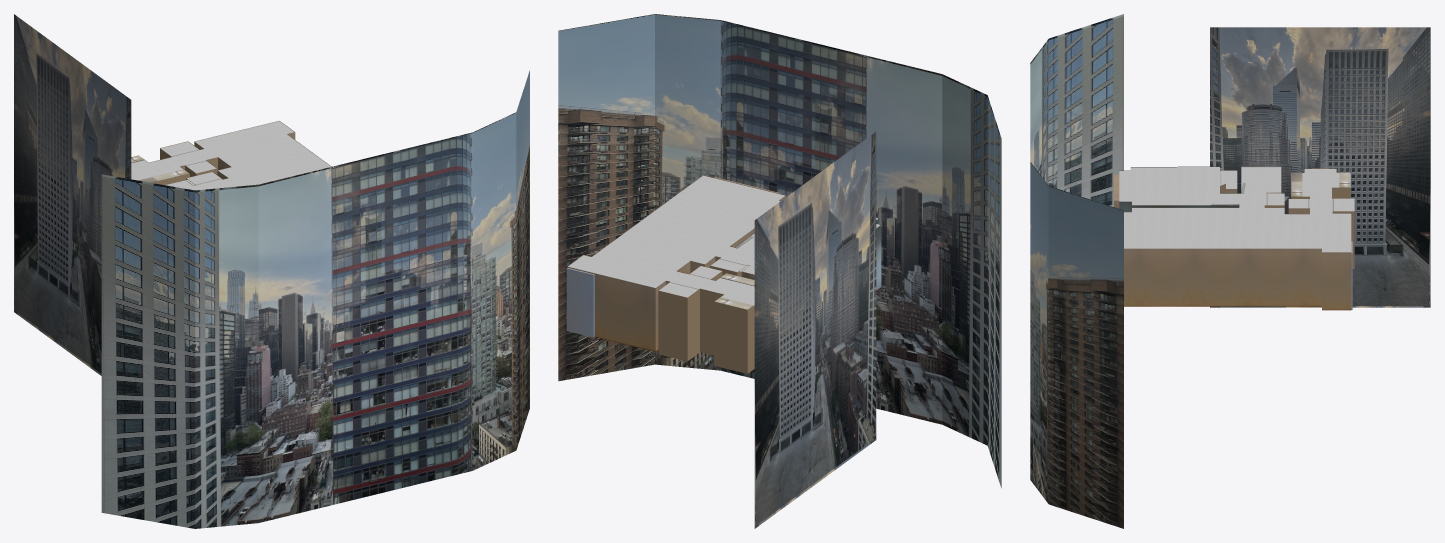
Rendered from Room.glb.
3 renders of one model, left to right at view 1: azimuth 30°, elevation 25°; view 2: azimuth 150°, elevation 25°; view 3: azimuth 270°, elevation 25°, orthographic. The views are drawn at different scales.
Visible parts, largest first — view 1: Plane, Plane.001, Ceiling Living, Walls, Ceiling Kitchen; view 2: Plane, Plane.001, Ceiling Living, Walls, Door Living, Ceiling Kitchen; view 3: Plane, Plane.001, Walls, Ceiling Living, Ceiling Bedroom, Ceiling Bathroom, Ceiling Kitchen.
Part boxes in pixels (x1=…): Plane: x1=101, y1=70, x2=529, y2=528; Plane.001: x1=14, y1=14, x2=131, y2=375; Ceiling Living: x1=160, y1=121, x2=330, y2=189; Walls: x1=131, y1=120, x2=331, y2=185; Ceiling Kitchen: x1=131, y1=157, x2=183, y2=180; Plane: x1=558, y1=14, x2=1001, y2=488; Plane.001: x1=754, y1=131, x2=876, y2=528; Ceiling Living: x1=568, y1=175, x2=785, y2=297; Walls: x1=567, y1=175, x2=881, y2=373; Door Living: x1=566, y1=268, x2=594, y2=337; Ceiling Kitchen: x1=701, y1=278, x2=754, y2=305; Plane: x1=1030, y1=14, x2=1123, y2=528; Plane.001: x1=1210, y1=27, x2=1430, y2=307; Walls: x1=1114, y1=166, x2=1354, y2=310; Ceiling Living: x1=1124, y1=193, x2=1354, y2=252; Ceiling Bedroom: x1=1119, y1=167, x2=1240, y2=205; Ceiling Bathroom: x1=1241, y1=167, x2=1281, y2=193; Ceiling Kitchen: x1=1291, y1=169, x2=1350, y2=198.
Bounding box in the file's own units: 17.45 × 14.06 × 15.02.
27 materials, 26 textured.
